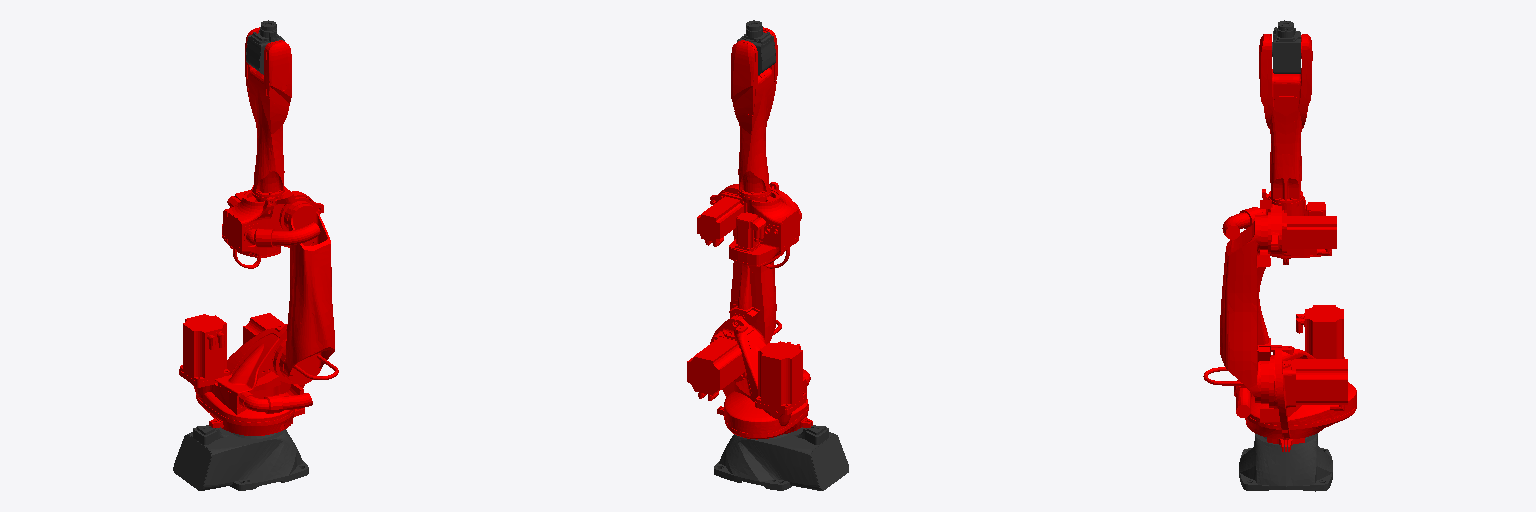
URDF robot description (racer7-14):
<?xml version="1.0" ?>
<!-- =================================================================================== -->
<!-- |    This document was autogenerated by xacro from racer7-14_robot.urdf.xacro     | -->
<!-- |    EDITING THIS FILE BY HAND IS NOT RECOMMENDED                                 | -->
<!-- =================================================================================== -->
<robot name="racer7-14">
  <!-- 
    Author: LMS
  
  <controller_plugin_gazebo/> -->
  <!-- 
    Author: LMS
   -->
  <!--To Reduce VIbrations-->
  <!---->
  <transmission name="joint_1_trans">
    <type>transmission_interface/SimpleTransmission</type>
    <joint name="joint_1">
      <hardwareInterface>hardware_interface/PositionJointInterface</hardwareInterface>
    </joint>
    <actuator name="joint_1_motor">
      <mechanicalReduction>1</mechanicalReduction>
    </actuator>
  </transmission>
  <transmission name="joint_2_trans">
    <type>transmission_interface/SimpleTransmission</type>
    <joint name="joint_2">
      <hardwareInterface>hardware_interface/PositionJointInterface</hardwareInterface>
    </joint>
    <actuator name="joint_2_motor">
      <mechanicalReduction>1</mechanicalReduction>
    </actuator>
  </transmission>
  <transmission name="joint_3_trans">
    <type>transmission_interface/SimpleTransmission</type>
    <joint name="joint_3">
      <hardwareInterface>hardware_interface/PositionJointInterface</hardwareInterface>
    </joint>
    <actuator name="joint_3_motor">
      <mechanicalReduction>1</mechanicalReduction>
    </actuator>
  </transmission>
  <transmission name="joint_4_trans">
    <type>transmission_interface/SimpleTransmission</type>
    <joint name="joint_4">
      <hardwareInterface>hardware_interface/PositionJointInterface</hardwareInterface>
    </joint>
    <actuator name="joint_4_motor">
      <mechanicalReduction>1</mechanicalReduction>
    </actuator>
  </transmission>
  <transmission name="joint_5_trans">
    <type>transmission_interface/SimpleTransmission</type>
    <joint name="joint_5">
      <hardwareInterface>hardware_interface/PositionJointInterface</hardwareInterface>
    </joint>
    <actuator name="joint_5_motor">
      <mechanicalReduction>1</mechanicalReduction>
    </actuator>
  </transmission>
  <transmission name="joint_6_trans">
    <type>transmission_interface/SimpleTransmission</type>
    <joint name="joint_6">
      <hardwareInterface>hardware_interface/PositionJointInterface</hardwareInterface>
    </joint>
    <actuator name="joint_6_motor">
      <mechanicalReduction>1</mechanicalReduction>
    </actuator>
  </transmission>
  <gazebo reference="base_link">
    <selfCollide>true</selfCollide>
    <material>Gazebo/DarkGrey</material>
    <turnGravityOff>false</turnGravityOff>
    <mu1>0.0</mu1>
    <mu2>0.0</mu2>
  </gazebo>
  <gazebo reference="link_1">
    <selfCollide>true</selfCollide>
    <material>Gazebo/Red</material>
    <turnGravityOff>false</turnGravityOff>
    <mu1>0.0</mu1>
    <mu2>0.0</mu2>
  </gazebo>
  <gazebo reference="link_2">
    <selfCollide>true</selfCollide>
    <material>Gazebo/Red</material>
    <turnGravityOff>false</turnGravityOff>
    <mu1>0.0</mu1>
    <mu2>0.0</mu2>
  </gazebo>
  <gazebo reference="link_3">
    <selfCollide>true</selfCollide>
    <material>Gazebo/Red</material>
    <turnGravityOff>false</turnGravityOff>
    <mu1>0.0</mu1>
    <mu2>0.0</mu2>
  </gazebo>
  <gazebo reference="link_4">
    <selfCollide>true</selfCollide>
    <material>Gazebo/Red</material>
    <turnGravityOff>false</turnGravityOff>
    <mu1>0.0</mu1>
    <mu2>0.0</mu2>
  </gazebo>
  <gazebo reference="link_5">
    <selfCollide>true</selfCollide>
    <material>Gazebo/DarkGrey</material>
    <turnGravityOff>false</turnGravityOff>
    <mu1>0.0</mu1>
    <mu2>0.0</mu2>
  </gazebo>
  <gazebo reference="link_6">
    <selfCollide>true</selfCollide>
    <material>Gazebo/Black</material>
    <turnGravityOff>false</turnGravityOff>
    <mu1>0.0</mu1>
    <mu2>0.0</mu2>
  </gazebo>
  <link name="base_link">
    <visual>
      <origin rpy="0 0 3.141592653589793" xyz="0 0 0"/>
      <geometry>
        <mesh filename="package://racer7-14_description/meshes/racer7-14/base_link.STL"/>
      </geometry>
      <material name="comau_dark_grey">
        <color rgba="0.25098 0.25098 0.25098 1"/>
      </material>
    </visual>
    <collision>
      <origin rpy="0 0 3.141592653589793" xyz="0 0 0"/>

      <geometry>
        <mesh filename="package://racer7-14_description/meshes/racer7-14/base_link.STL" scale="1.0 1.0 1.0"/>
      </geometry>
    </collision>
    <inertial>
      <origin rpy="0 0 3.141592653589793" xyz="0 0 0"/>
      <mass value="3.2840000000000004e-05"/>
      <inertia ixx="0.4" ixy="0.0" ixz="0.0" iyy="0.4" iyz="0.0" izz="0.2"/>
    </inertial>
  </link>
  <link name="link_1">
    <visual>
      <origin rpy="3.141592653589793 0 3.141592653589793" xyz="0 0 0"/>
      <geometry>
        <mesh filename="package://racer7-14_description/meshes/racer7-14/link1.STL"/>
      </geometry>
      <material name="comau_red">
        <color rgba="1 0 0 1"/>
      </material>
    </visual>
    <collision>
      <origin rpy="3.141592653589793 0 3.141592653589793" xyz="0 0 0"/>

      <geometry>
        <mesh filename="package://racer7-14_description/meshes/racer7-14/link1.STL" scale="1.0 1.0 1.0"/>
      </geometry>
    </collision>
    <inertial>
      <origin rpy="0 0 1.5707963267948966" xyz="0.00048 0.02167 0.00018"/>
      <mass value="3.2840000000000004e-05"/>
      <inertia ixx="0.4" ixy="0.0" ixz="0.0" iyy="0.4" iyz="0.0" izz="0.2"/>
    </inertial>
  </link>
  <joint name="joint_1" type="revolute">
    <parent link="base_link"/>
    <child link="link_1"/>
    <origin rpy="3.141592653589793 0 0" xyz="0 0 0.1766"/>
    <axis xyz="0 0 1"/>
    <limit effort="10000.00" lower="-2.8797932658" upper="2.8797932658" velocity="20.00"/>
    <dynamics damping="0.02" friction="0.0"/>
  </joint>
  <link name="link_2">
    <visual>
      <origin rpy="0 3.141592653589793 0" xyz="0 0 0"/>
      <geometry>
        <mesh filename="package://racer7-14_description/meshes/racer7-14/link2.STL"/>
      </geometry>
      <material name="comau_red">
        <color rgba="1 0 0 1"/>
      </material>
    </visual>
    <collision>
      <origin rpy="0 3.141592653589793 0" xyz="0 0 0"/>

      <geometry>
        <mesh filename="package://racer7-14_description/meshes/racer7-14/link2.STL" scale="1.0 1.0 1.0"/>
      </geometry>
    </collision>
    <inertial>
      <origin rpy="0 3.141592653589793 0" xyz="0 0 0"/>
      <mass value="3.2840000000000004e-05"/>
      <inertia ixx="0.4" ixy="0.0" ixz="0.0" iyy="0.4" iyz="0.0" izz="0.2"/>
    </inertial>
  </link>
  <joint name="joint_2" type="revolute">
    <parent link="link_1"/>
    <child link="link_2"/>
    <origin rpy="1.5707963267948966 3.141592653589793 0" xyz="0.15 0.09 -0.25344"/>
    <axis xyz="0 0 1"/>
    <limit effort="10000.00" lower="-1.4835298642" upper="2.7052603406" velocity="20.00"/>
    <dynamics damping="0.02" friction="0.0"/>
  </joint>
  <link name="link_3">
    <visual>
      <origin rpy="0 3.141592653589793 1.5707963267948966" xyz="0 0 0"/>
      <geometry>
        <mesh filename="package://racer7-14_description/meshes/racer7-14/link3.STL"/>
      </geometry>
      <material name="comau_red">
        <color rgba="1 0 0 1"/>
      </material>
    </visual>
    <collision>
      <origin rpy="0 3.141592653589793 1.5707963267948966" xyz="0 0 0"/>

      <geometry>
        <mesh filename="package://racer7-14_description/meshes/racer7-14/link3.STL" scale="1.0 1.0 1.0"/>
      </geometry>
    </collision>
    <inertial>
      <origin rpy="0 3.141592653589793 1.5707963267948966" xyz="0 0 0"/>
      <mass value="3.2840000000000004e-05"/>
      <inertia ixx="0.4" ixy="0.0" ixz="0.0" iyy="0.4" iyz="0.0" izz="0.2"/>
    </inertial>
  </link>
  <joint name="joint_3" type="revolute">
    <parent link="link_2"/>
    <child link="link_3"/>
    <origin rpy="3.141592653589793 0 3.141592653589793" xyz="0 0.58996 -0.0005"/>
    <axis xyz="0 0 1"/>
    <!--limit lower="-0.1" upper="2.93215" effort="10000.00" velocity="20.00"/-->
    <limit effort="10000.00" lower="-2.9321531434" upper="0" velocity="20.00"/>
    <dynamics damping="0.02" friction="0.0"/>
  </joint>
  <link name="link_4">
    <visual>
      <origin rpy="0 3.141592653589793 1.5707963267948966" xyz="0 0 0"/>
      <geometry>
        <mesh filename="package://racer7-14_description/meshes/racer7-14/link4.STL"/>
      </geometry>
      <material name="comau_red">
        <color rgba="1 0 0 1"/>
      </material>
    </visual>
    <collision>
      <origin rpy="0 3.141592653589793 1.5707963267948966" xyz="0 0 0"/>
 
      <geometry>
        <mesh filename="package://racer7-14_description/meshes/racer7-14/link4.STL" scale="1.0 1.0 1.0"/>
      </geometry>
    </collision>
    <inertial>
      <origin rpy="0 3.141592653589793 1.5707963267948966" xyz="0 0 0"/>
      <mass value="3.2840000000000004e-05"/>
      <inertia ixx="0.4" ixy="0.0" ixz="0.0" iyy="0.4" iyz="0.0" izz="0.2"/>
    </inertial>
  </link>
  <joint name="joint_4" type="revolute">
    <parent link="link_3"/>
    <child link="link_4"/>
    <origin rpy=" 1.5707963267948966 0 0" xyz="-0.091 0.091 -0.08925"/>
    <axis xyz="0 0 1"/>
    <limit effort="10000.00" lower="-3.6651914292" upper="3.6651914292" velocity="20.00"/>
    <dynamics damping="0.02" friction="0.0"/>
  </joint>
  <link name="link_5">
    <visual>
      <geometry>
        <mesh filename="package://racer7-14_description/meshes/racer7-14/link5.STL"/>
      </geometry>
      <material name="comau_dark_grey">
        <color rgba="0.25098 0.25098 0.25098 1"/>
      </material>
    </visual>
    <collision>

      <geometry>
        <mesh filename="package://racer7-14_description/meshes/racer7-14/link5.STL" scale="1.0 1.0 1.0"/>
      </geometry>
    </collision>
    <inertial>
      <mass value="3.2840000000000004e-05"/>
      <inertia ixx="0.4" ixy="0.0" ixz="0.0" iyy="0.4" iyz="0.0" izz="0.2"/>
    </inertial>
  </link>
  <joint name="joint_5" type="revolute">
    <parent link="link_4"/>
    <child link="link_5"/>
    <origin rpy="1.5707963267948966 -1.5707963267948966 0" xyz="0 0.04825 -0.593"/>
    <axis xyz="0 0 1"/>
    <limit effort="10000.00" lower="-2.3561944902" upper="2.3561944902" velocity="20.00"/>
    <dynamics damping="0.02" friction="0.0"/>
  </joint>
  <link name="link_6">
    <visual>
      <origin rpy="0 3.141592653589793 3.141592653589793" xyz="0 0 0"/>
      <geometry>
        <mesh filename="package://racer7-14_description/meshes/racer7-14/link6.STL"/>
      </geometry>
      <material name="comau_dark_grey">
        <color rgba="0.25098 0.25098 0.25098 1"/>
      </material>
    </visual>
    <collision>
      <origin rpy="0 3.141592653589793 3.141592653589793" xyz="0 0 0"/>

      <geometry>
        <mesh filename="package://racer7-14_description/meshes/racer7-14/link6.STL" scale="1.0 1.0 1.0"/>
      </geometry>
    </collision>
    <inertial>
      <origin rpy="0 3.141592653589793 3.141592653589793" xyz="0 0 0"/>
      <mass value="3.2840000000000004e-05"/>
      <inertia ixx="0.4" ixy="0.0" ixz="0.0" iyy="0.4" iyz="0.0" izz="0.2"/>
    </inertial>
  </link>
  <joint name="joint_6" type="revolute">
    <parent link="link_5"/>
    <child link="link_6"/>
    <origin rpy="3.141592653589793 -1.5707963267948966 0" xyz="-0.086 -0.00071728 0.048478"/>
    <axis xyz="0 0 1"/>
    <limit effort="10000.00" lower="-47.1238898" upper="47.1238898" velocity="20.00"/>
    <dynamics damping="0.02" friction="0.0"/>
  </joint>
  <link name="ee_link">
    <visual>
      <geometry>
        <cylinder length="0.001" radius="0.001"/>
      </geometry>
    </visual>
  </link>
  <joint name="joint_ee_link" type="fixed">
    <origin rpy="3.141592653589793 0 1.5707963267948966" xyz="0 0 0"/>
    <parent link="link_6"/>
    <child link="ee_link"/>
    <axis xyz="0 0 0"/>
  </joint>
  <link name="world"/>
  <joint name="world_joint" type="fixed">
    <parent link="world"/>
    <child link="base_link"/>
    <origin rpy="0 0 0" xyz="0 0 0.0"/>
  </joint>
</robot>

--- Facts derived from the render (not from the file) ---
3 views of the same robot in one strip: view 1: azimuth 30°, elevation 25°; view 2: azimuth 150°, elevation 25°; view 3: azimuth 270°, elevation 25° (orthographic).
Robot: racer7-14 — 9 links, 8 joints (6 revolute, 2 fixed); root link world; default pose: all joints at 0.
Visible links, largest first — view 1: link_1, link_2, base_link, link_4, link_3, link_5; view 2: link_1, base_link, link_3, link_4, link_2, link_5; view 3: link_1, link_2, link_4, link_3, base_link, link_5.
Link boxes in pixels (x1,y1,x2,y2): link_1: (179, 313, 312, 435); link_2: (284, 204, 338, 384); base_link: (173, 425, 308, 490); link_4: (245, 27, 291, 201); link_3: (222, 187, 323, 268); link_5: (246, 27, 284, 74); link_1: (687, 315, 812, 439); base_link: (714, 425, 848, 490); link_3: (697, 182, 801, 268); link_4: (731, 27, 777, 202); link_2: (729, 230, 781, 344); link_5: (737, 26, 775, 74); link_1: (1234, 305, 1356, 451); link_2: (1203, 215, 1272, 402); link_4: (1259, 34, 1312, 209); link_3: (1222, 189, 1336, 264); base_link: (1239, 433, 1332, 491); link_5: (1272, 27, 1300, 73).
Bounding box of the posed robot: 0.5591 × 0.5496 × 1.8 m (x, y, z).
Meshes: 7 distinct files referenced, 7 mesh visuals loaded (7 binary STL).
